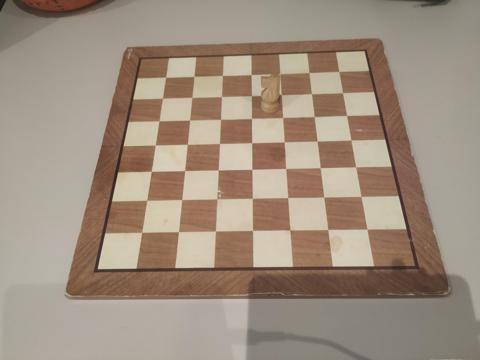xcorner: (136, 229, 146, 239), (173, 229, 183, 239), (248, 227, 258, 237), (286, 227, 296, 237), (324, 226, 334, 236), (363, 225, 373, 235), (141, 197, 151, 207), (177, 196, 187, 206), (212, 195, 222, 205), (248, 194, 258, 204), (284, 194, 294, 204), (321, 193, 331, 203), (357, 192, 367, 202), (146, 167, 156, 177), (180, 166, 190, 176), (214, 165, 224, 175), (248, 164, 258, 174), (282, 164, 292, 174), (317, 163, 327, 173), (352, 162, 362, 172), (183, 139, 193, 149), (215, 138, 225, 148), (248, 137, 258, 147), (281, 136, 291, 146), (314, 135, 324, 145), (347, 134, 357, 144), (154, 115, 164, 125), (185, 114, 195, 124), (216, 113, 226, 123), (248, 112, 258, 122), (279, 111, 289, 121), (311, 110, 321, 120), (343, 109, 353, 119), (158, 92, 168, 102), (188, 91, 198, 101), (218, 90, 228, 100), (248, 89, 258, 99), (278, 88, 288, 98), (308, 87, 318, 97), (339, 86, 349, 96), (161, 71, 171, 81), (190, 70, 200, 80), (219, 69, 229, 79), (248, 68, 258, 78), (277, 67, 287, 77), (306, 66, 316, 76), (336, 65, 346, 75), (211, 228, 220, 238), (151, 140, 160, 150)
